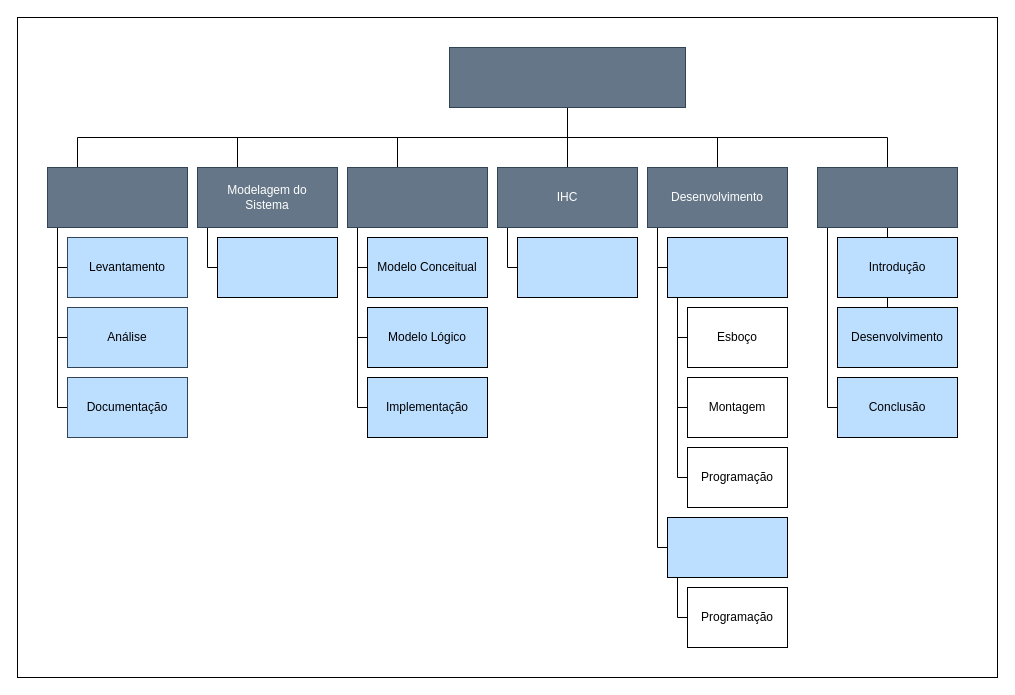
The diagram is 1015 pixels wide and 695 high, and some of its shapes have lost their labels. The shapes that lost their labels are listed below. From the top down, each one's centre as x and y in pixels, then its label:
At point (567, 77): "TCC 2021 - Coleira Inteligente".
At point (117, 197): "Gerenciamento dos Requisitos".
At point (417, 197): "Banco de Dados".
At point (887, 197): "Documento TCC".
At point (277, 267): "Diagramas".
At point (577, 267): "Prototipação das Telas".
At point (727, 267): "Circuito Elétrico".
At point (727, 547): "Aplicativo Mobile".
